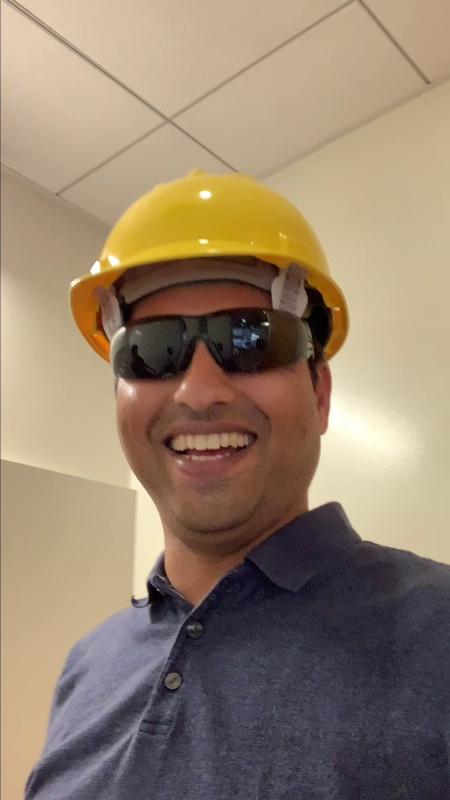glasses: (95, 306, 316, 377)
helmet: (53, 165, 347, 312)
